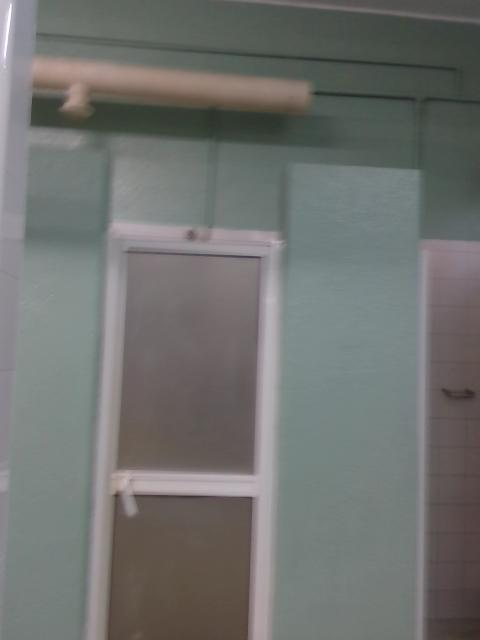door: (101, 238, 275, 640)
